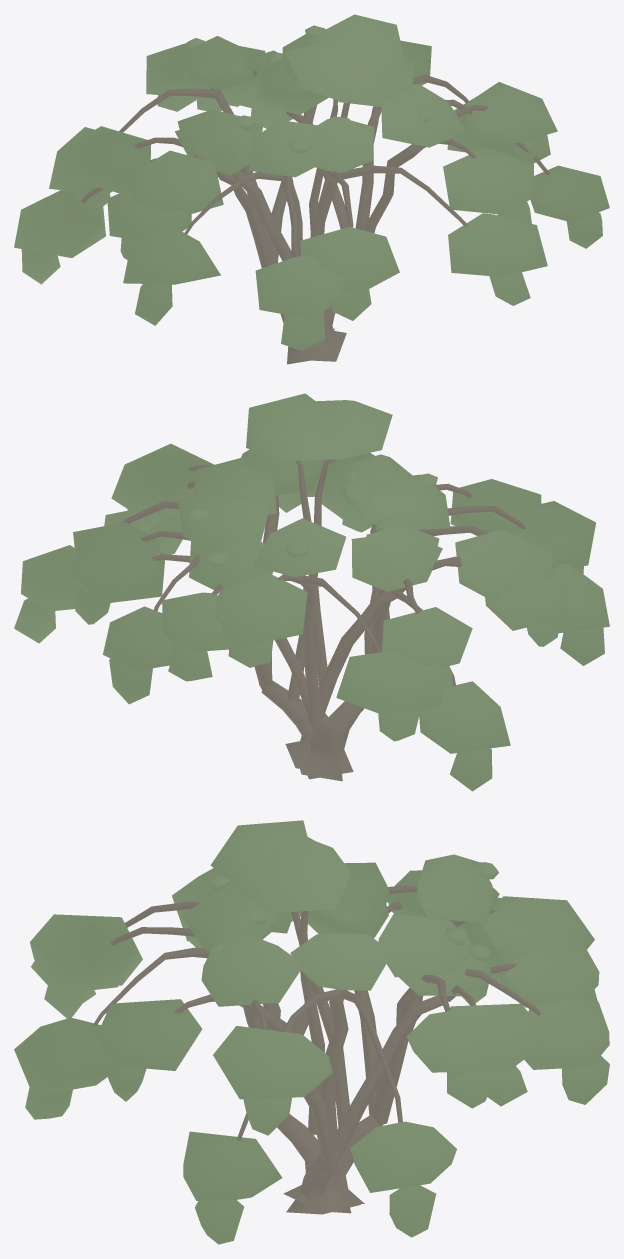
The model's file is Blender_Ironwood_1_Far.glb.
3 views of the same model, one above another, from view 1: azimuth 30°, elevation 25°; view 2: azimuth 150°, elevation 25°; view 3: azimuth 270°, elevation 25° (orthographic). The views are drawn at different scales.
Parts seen in each view (by area): view 1: Blender_Ironwood_1_Far; view 2: Blender_Ironwood_1_Far; view 3: Blender_Ironwood_1_Far.
Boxes of the visible parts, box(x1,y1,x2,y2) form: Blender_Ironwood_1_Far: box(14, 14, 609, 364); Blender_Ironwood_1_Far: box(14, 393, 609, 791); Blender_Ironwood_1_Far: box(14, 820, 609, 1244).
Size of the model in its own units: 11.55 by 7.76 by 10.47.
